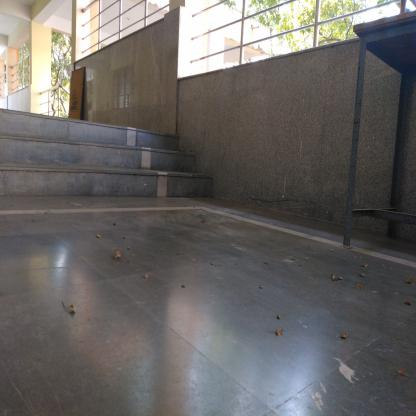stairs: (10, 136, 180, 206)
